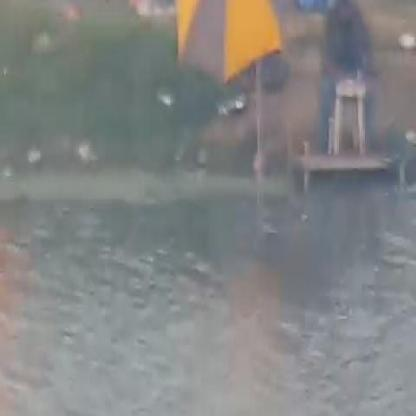other: (174, 1, 278, 91)
